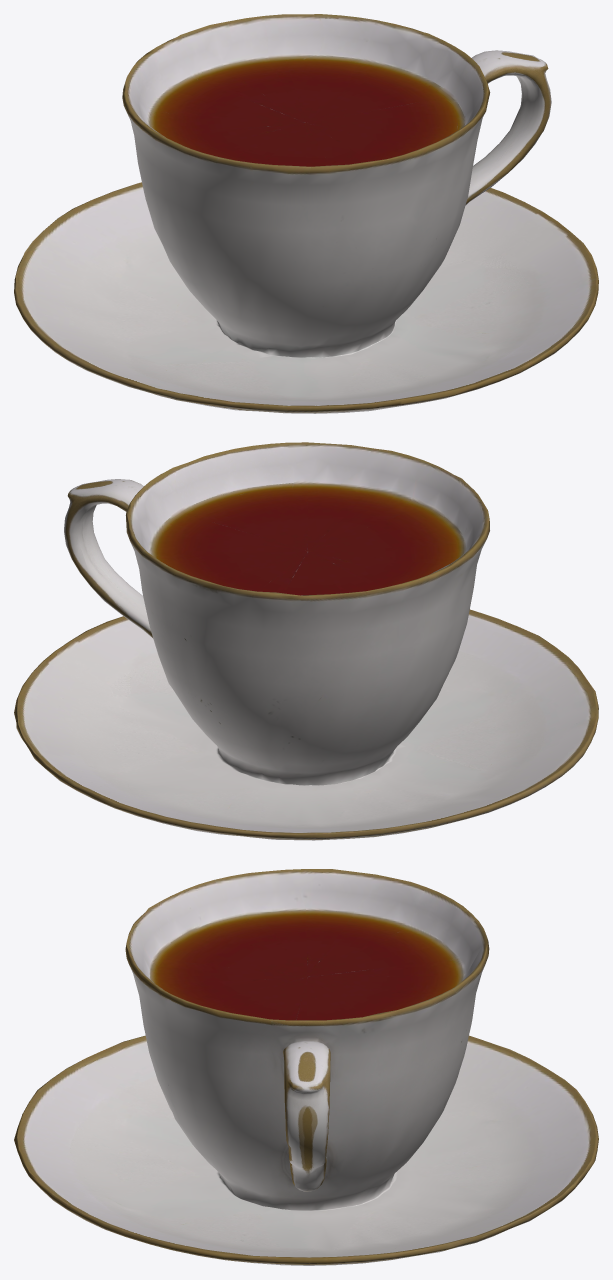
File: teacup_saucer.glb
3 views of the same model, one above another, from view 1: azimuth 30°, elevation 25°; view 2: azimuth 150°, elevation 25°; view 3: azimuth 270°, elevation 25° (orthographic).
Size of the model in its own units: 0.9498 by 0.4419 by 0.9531.
1 material, 1 textured.
